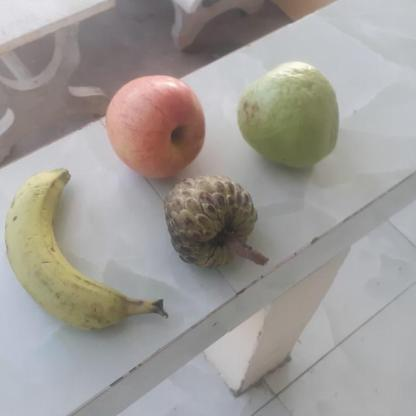annona: (166, 174, 264, 271)
apple: (100, 74, 210, 174)
banana: (5, 166, 160, 333)
guava: (242, 63, 342, 168)
